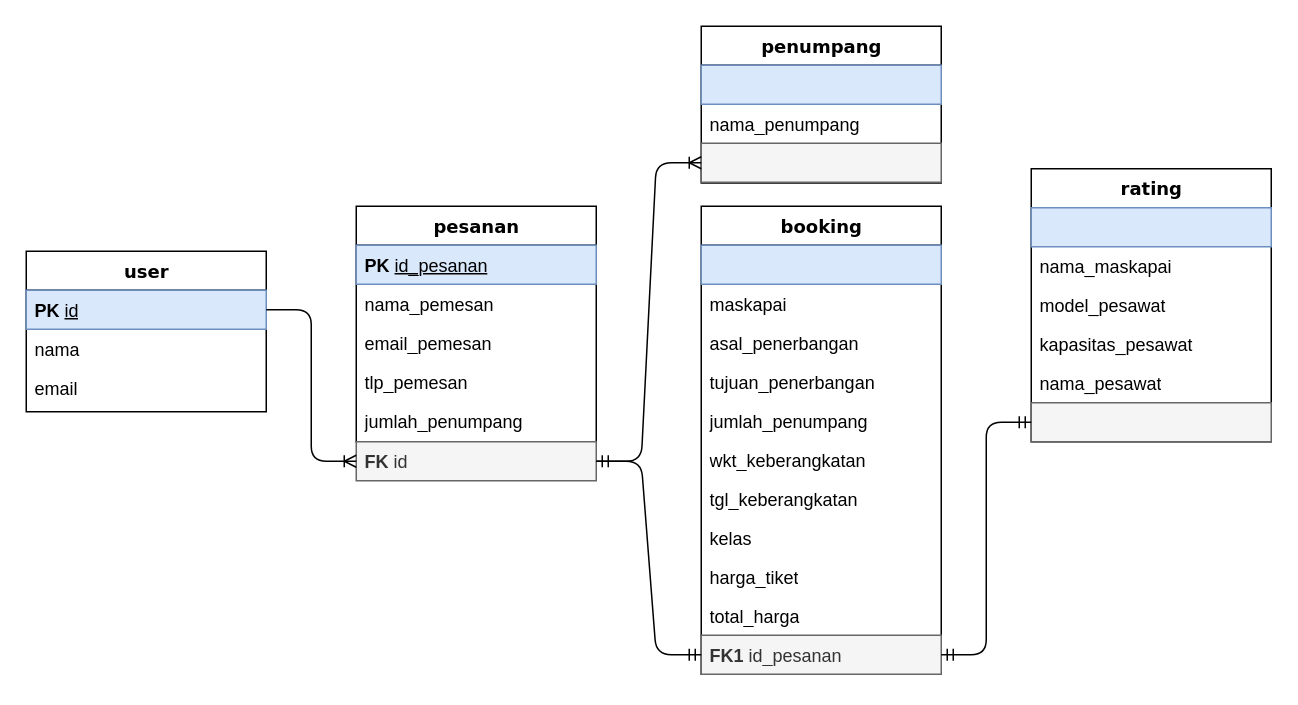
The diagram is 1298 pixels wide and 705 high, and some of its shapes have lost their labels. Each missing label, with the centre of its shape:
"FK id_pesanan" goes at (x=820, y=162).
"FK kode_booking" goes at (x=1150, y=421).
"PK id_rating" goes at (x=1150, y=226).
"PK kode_booking" goes at (x=820, y=264).
"PK nik_penumpang" goes at (x=820, y=84).
